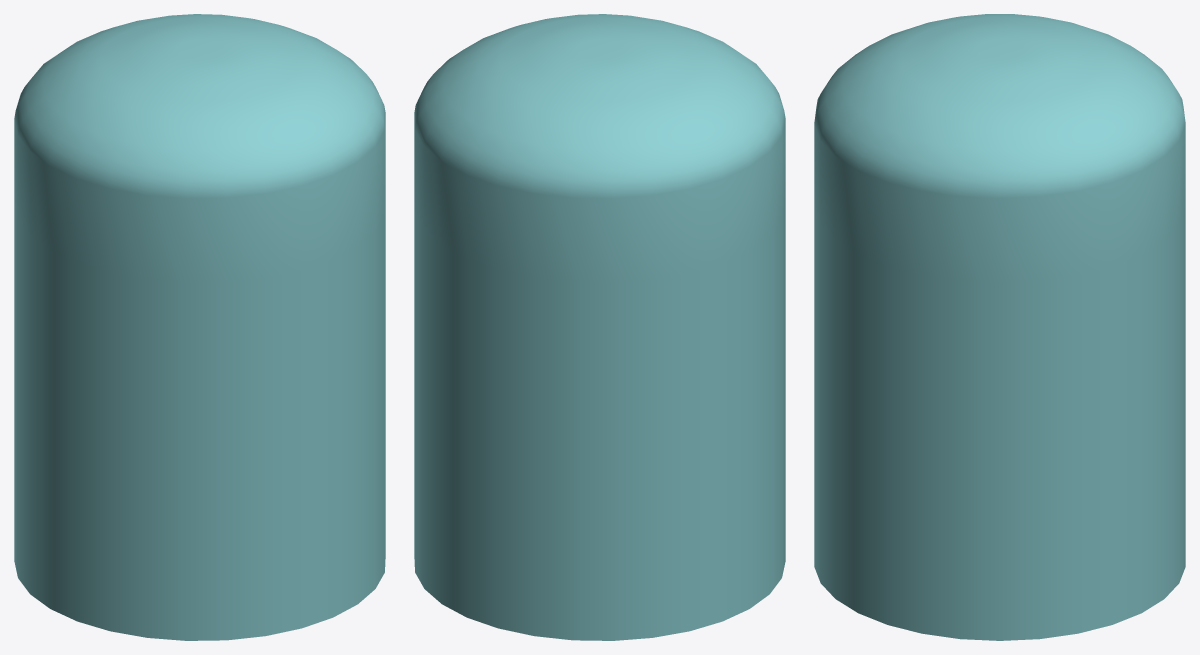
Rendered from sm_Mountain01.fbx.
3 views of the same model, side by side, from view 1: azimuth 30°, elevation 25°; view 2: azimuth 150°, elevation 25°; view 3: azimuth 270°, elevation 25° (orthographic).
Parts seen in each view (by area): view 1: Cylinder006; view 2: Cylinder006; view 3: Cylinder006.
Boxes of the visible parts, x1,y1,x2,y2 form: Cylinder006: [14, 14, 385, 640]; Cylinder006: [414, 14, 785, 640]; Cylinder006: [814, 14, 1185, 640].
Size of the model in its own units: 499 by 762 by 500.
